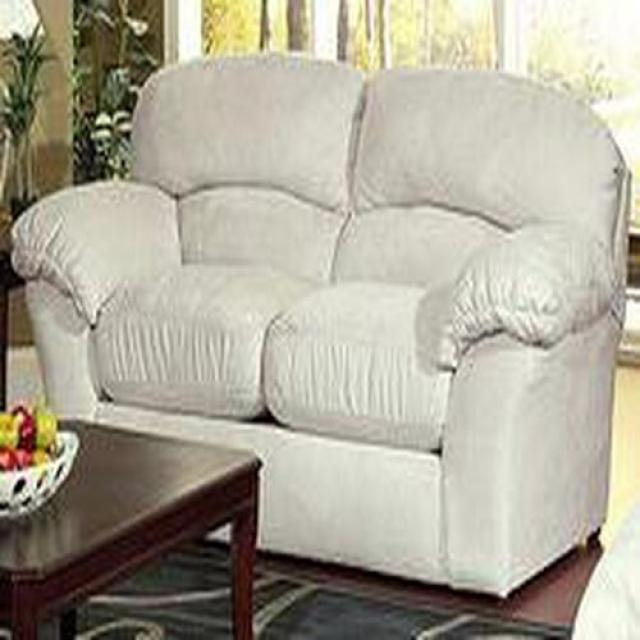sofa: (9, 52, 631, 599)
